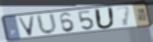5: (77, 9, 95, 30)
6: (59, 12, 76, 33)
7: (116, 6, 132, 28)
U: (93, 6, 117, 30), (35, 12, 59, 36)
V: (16, 15, 37, 37)
